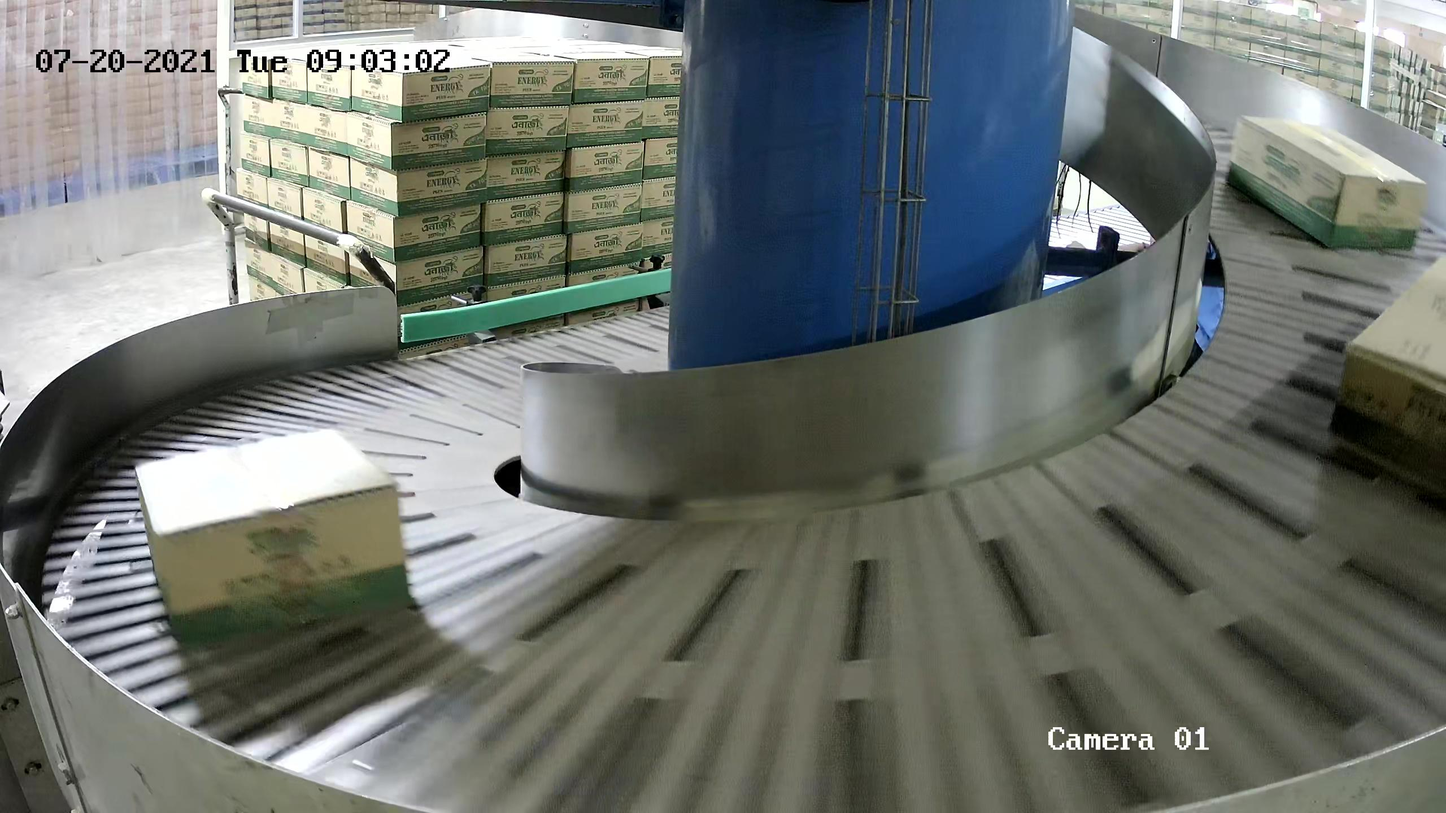Box: (134, 428, 412, 647), (1227, 115, 1427, 250)
